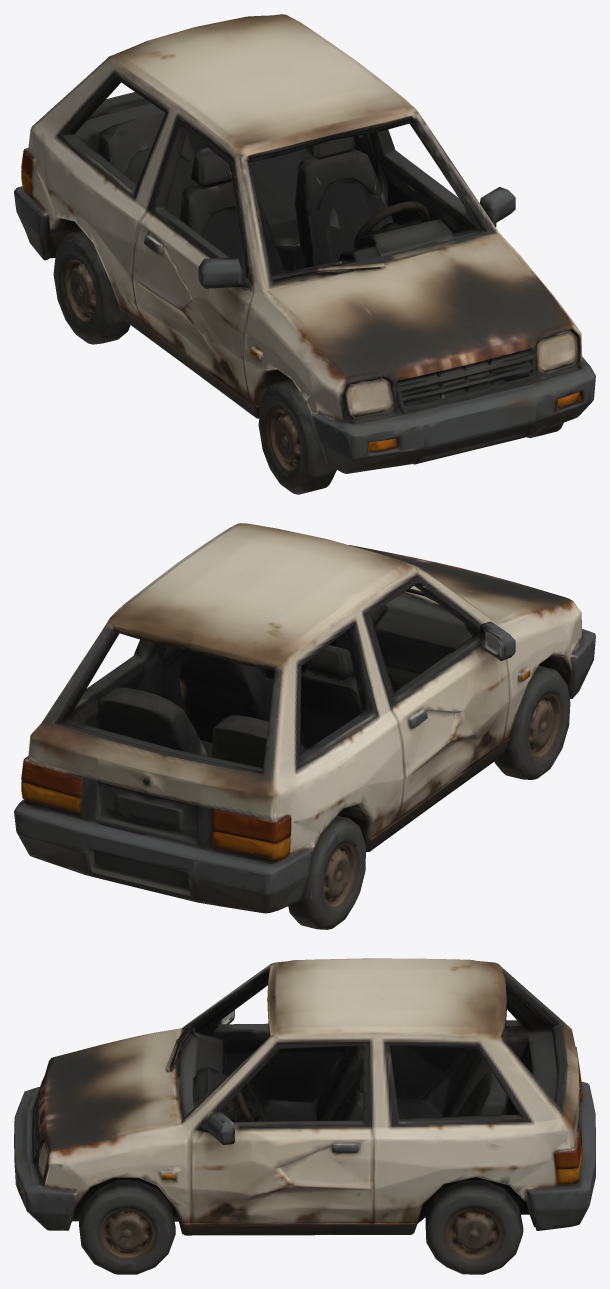
File: prop_car.glb
The picture shows the model from 3 angles, top to bottom: view 1: azimuth 30°, elevation 25°; view 2: azimuth 150°, elevation 25°; view 3: azimuth 270°, elevation 25°; orthographic projection. The views are drawn at different scales.
Parts seen in each view (by area): view 1: node_0; view 2: node_0; view 3: node_0.
Part boxes in pixels (box(x1,y1,x2,y2)): node_0: box(14, 14, 595, 494); node_0: box(14, 523, 595, 929); node_0: box(14, 958, 595, 1274).
Size of the model in its own units: 0.5862 by 0.4937 by 1.11.
1 material, 1 textured.
